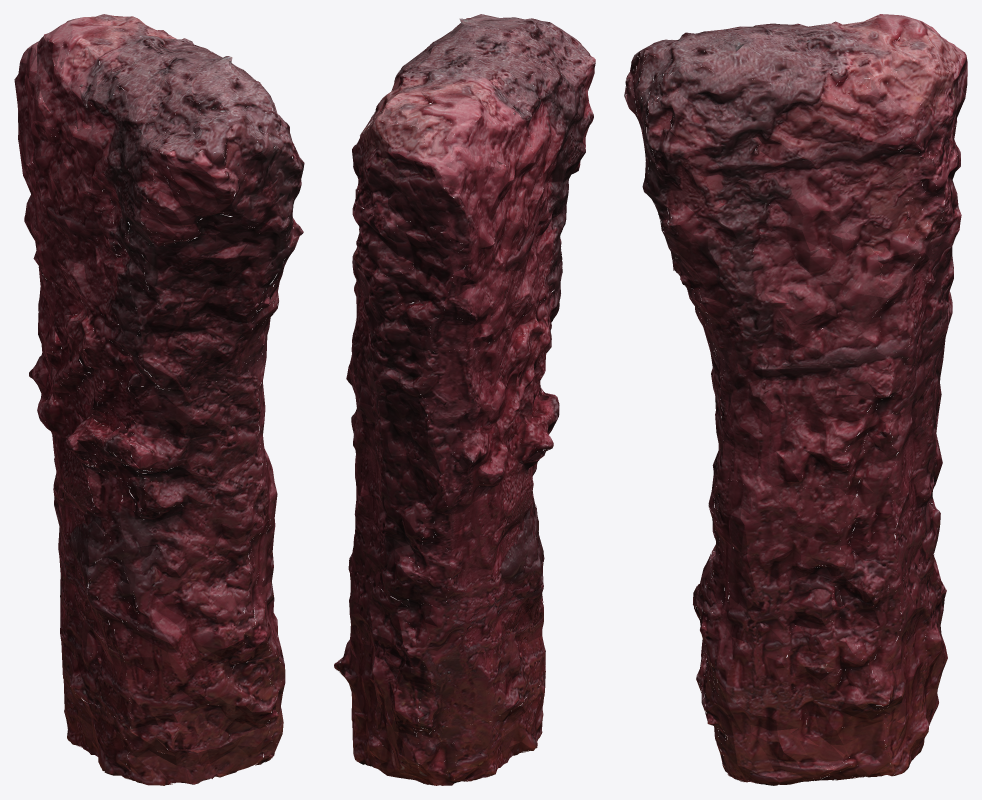
The model's file is chicken.glb.
The picture shows the model from 3 angles, left to right: view 1: azimuth 30°, elevation 25°; view 2: azimuth 150°, elevation 25°; view 3: azimuth 270°, elevation 25°; orthographic projection. The views are drawn at different scales.
Parts seen in each view (by area): view 1: Mesh_0_Part_0; view 2: Mesh_0_Part_0; view 3: Mesh_0_Part_0.
Boxes of the visible parts, x1,y1,x2,y2 form: Mesh_0_Part_0: (14, 14, 304, 785); Mesh_0_Part_0: (334, 14, 595, 785); Mesh_0_Part_0: (624, 14, 967, 785).
Size of the model in its own units: 1.85 by 6.76 by 2.94.
1 material, 1 textured.
